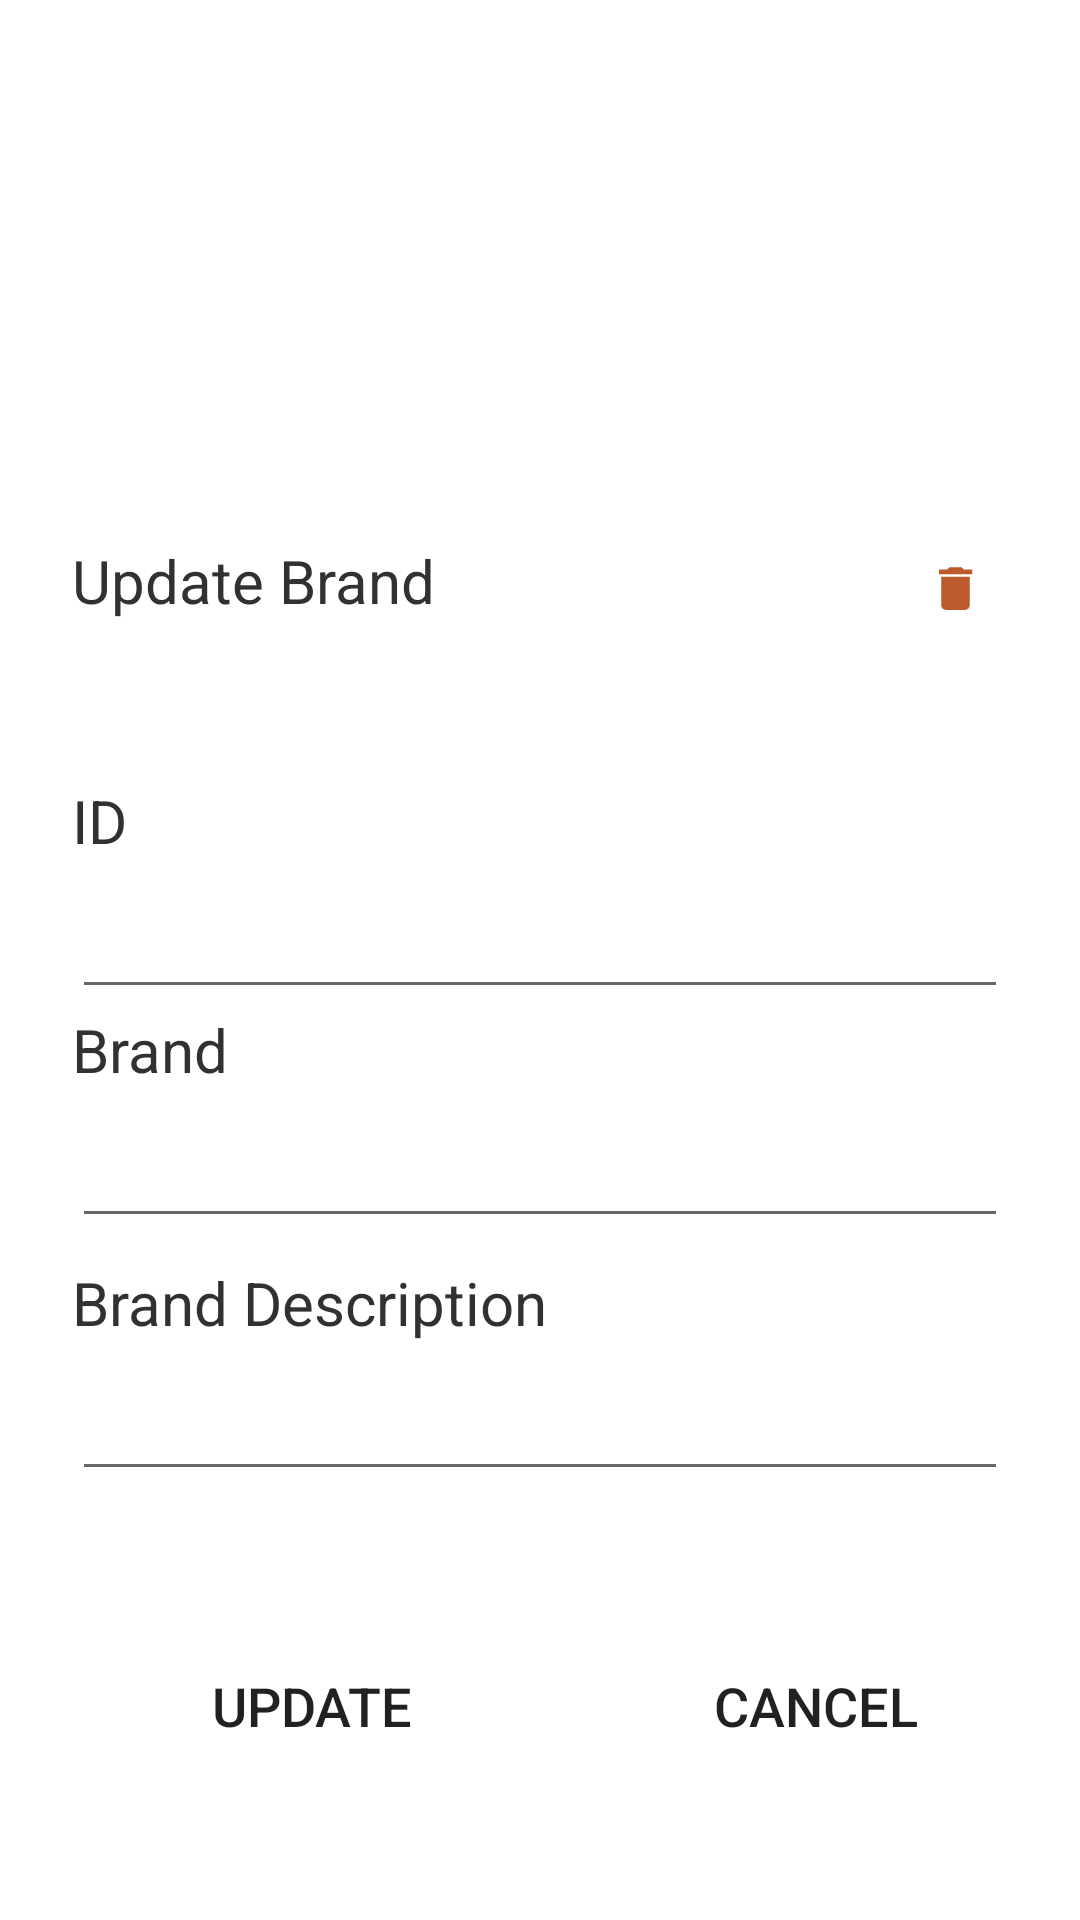

Icons on this 1080w x 1920h Android screen, each with the point to tap as point (x, y):
delete: point (956, 588)
